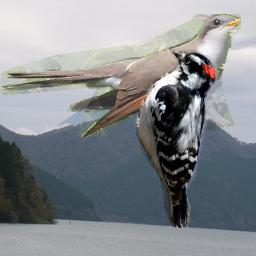Cuckoo: (1, 14, 241, 137)
Woodpecker: (134, 46, 220, 228)
